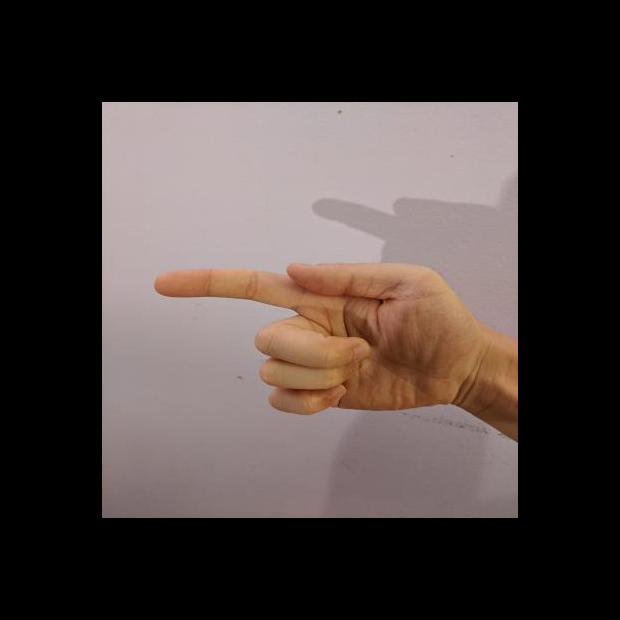F: (148, 259, 480, 419)
